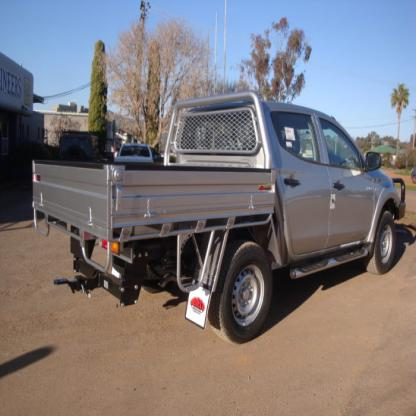light_vehicle: (24, 86, 415, 342)
